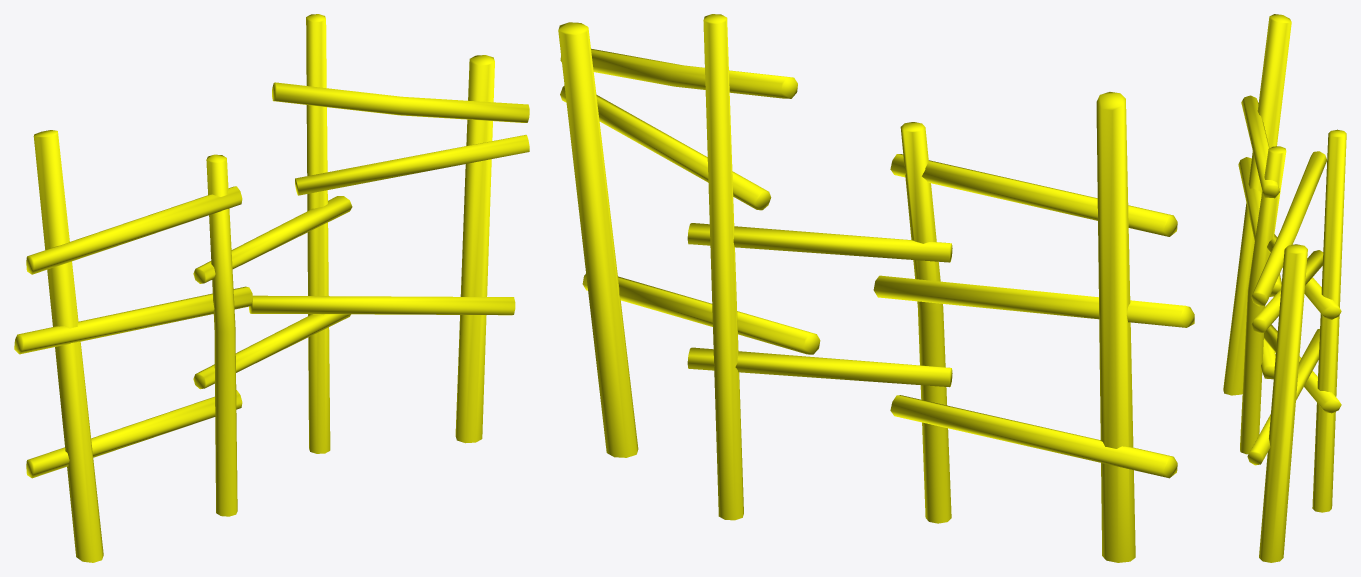
Rendered from camp_woodhut_fence01.glb.
3 views of the same model, side by side, from view 1: azimuth 30°, elevation 25°; view 2: azimuth 150°, elevation 25°; view 3: azimuth 270°, elevation 25° (orthographic). The views are drawn at different scales.
Parts seen in each view (by area): view 1: camp_tent_woodhut_fence01; view 2: camp_tent_woodhut_fence01; view 3: camp_tent_woodhut_fence01.
Part boxes in pixels (bbox=[...]): camp_tent_woodhut_fence01: bbox=[14, 14, 529, 562]; camp_tent_woodhut_fence01: bbox=[558, 14, 1194, 562]; camp_tent_woodhut_fence01: bbox=[1223, 14, 1346, 562].
Size of the model in its own units: 10.02 by 7.86 by 2.31.
1 material, 1 textured.
